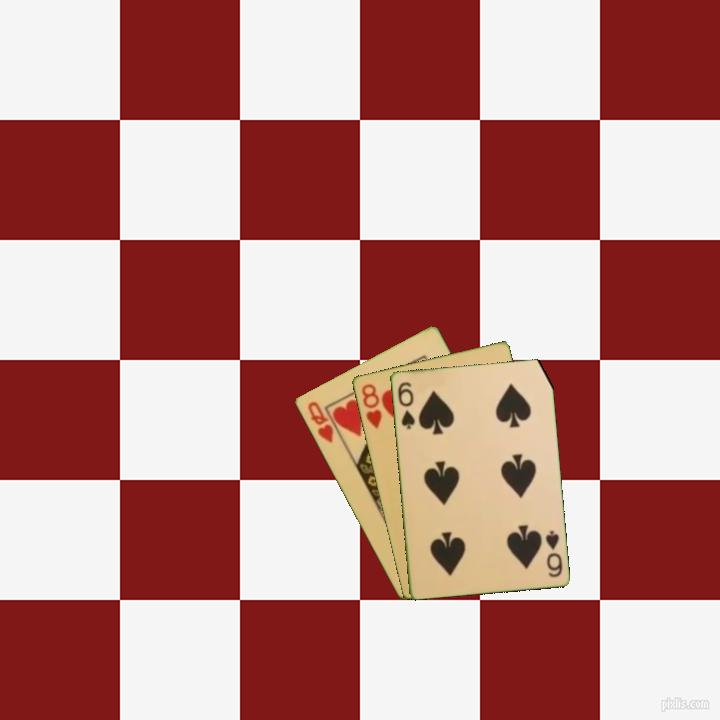6s: (394, 378, 418, 432), (541, 527, 565, 580)
8h: (357, 380, 384, 431)
Qh: (303, 398, 336, 446)
